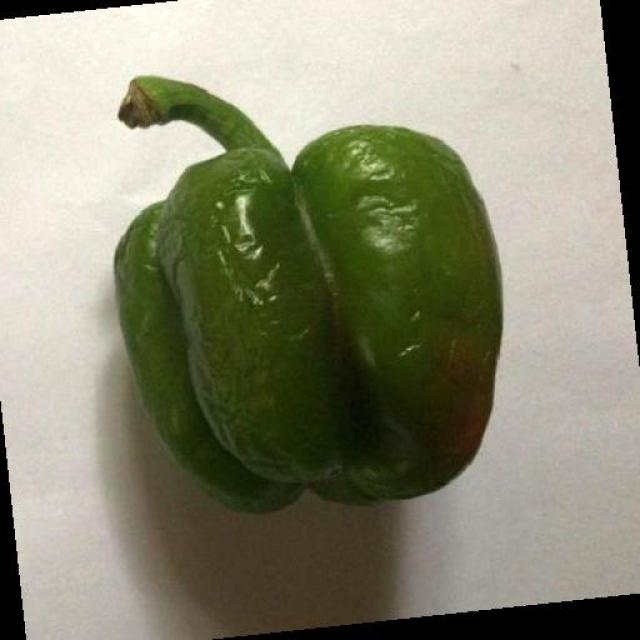Stale_Capsicum: (107, 81, 544, 503)
